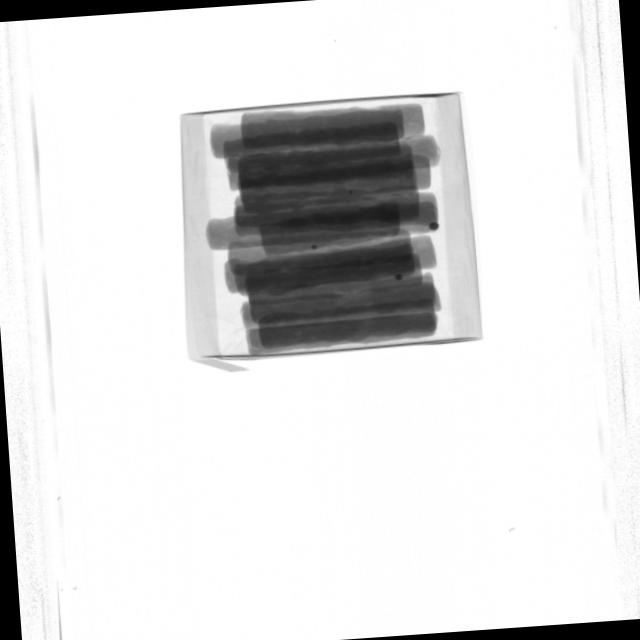ym: (428, 221, 439, 231), (395, 273, 403, 280), (311, 245, 318, 250), (349, 191, 354, 195)
